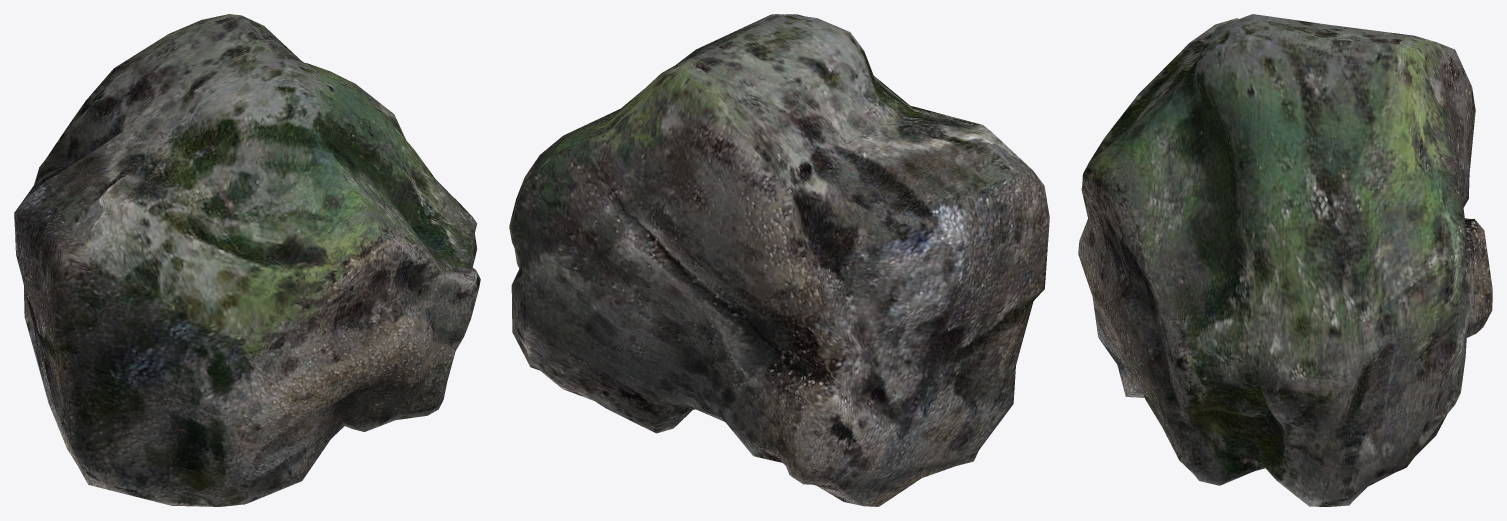
File: Jungle_rock_a.fbx
The picture shows the model from 3 angles, left to right: view 1: azimuth 30°, elevation 25°; view 2: azimuth 150°, elevation 25°; view 3: azimuth 270°, elevation 25°; orthographic projection. The views are drawn at different scales.
Visible parts, largest first — view 1: Jungle_rock_a; view 2: Jungle_rock_a; view 3: Jungle_rock_a.
Part boxes in pixels (x1,y1,x2,y2): Jungle_rock_a: [14, 14, 480, 506]; Jungle_rock_a: [509, 14, 1049, 506]; Jungle_rock_a: [1078, 14, 1492, 506].
Size of the model in its own units: 1.37 by 1.12 by 0.9974.
1 material, 1 textured.
